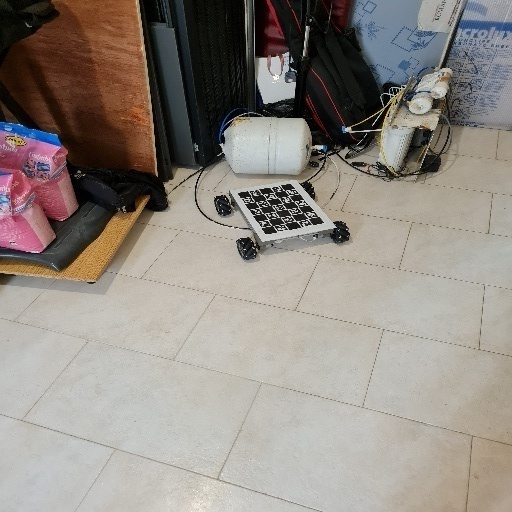Omniwheel: (214, 181, 353, 261)
